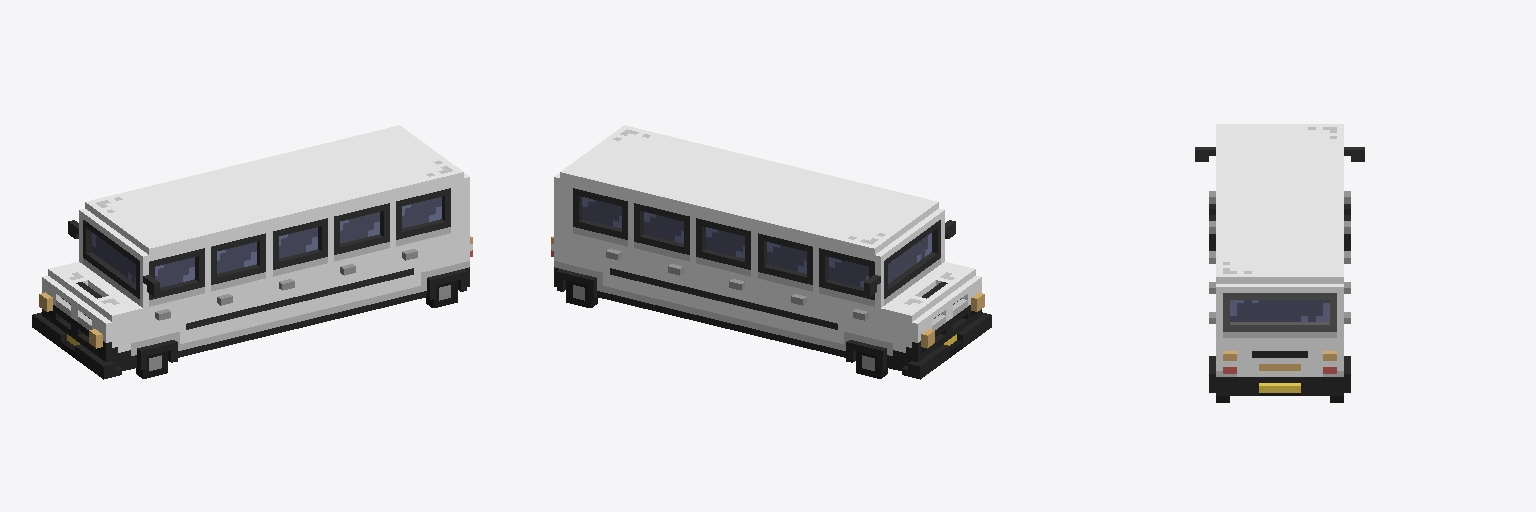
3 views of the same model, side by side, from view 1: azimuth 30°, elevation 25°; view 2: azimuth 150°, elevation 25°; view 3: azimuth 270°, elevation 25° (orthographic).
Parts seen in each view (by area): view 1: Box_98; view 2: Box_98; view 3: Box_98.
Boxes of the visible parts, <box> form: Box_98: <box>32,125,472,379</box>; Box_98: <box>551,125,991,379</box>; Box_98: <box>1195,124,1364,402</box>.
Size of the model in its own units: 61 by 20 by 24.
1 materials, 1 textured.